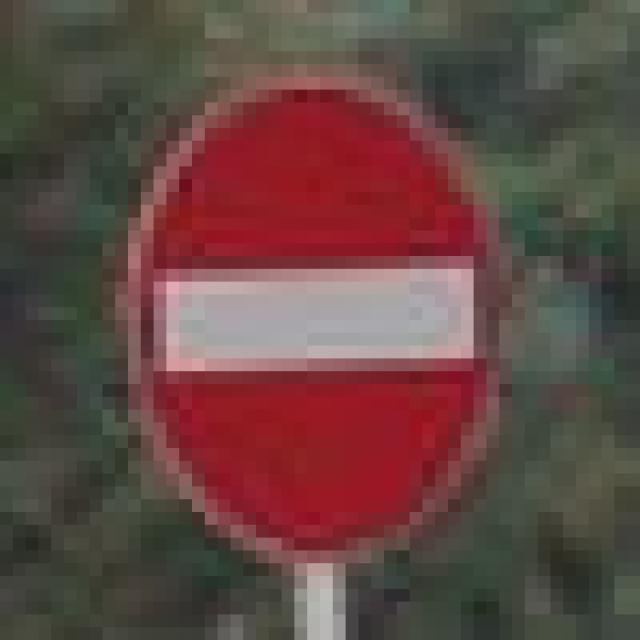NO_ENTRY: (102, 64, 500, 538)
